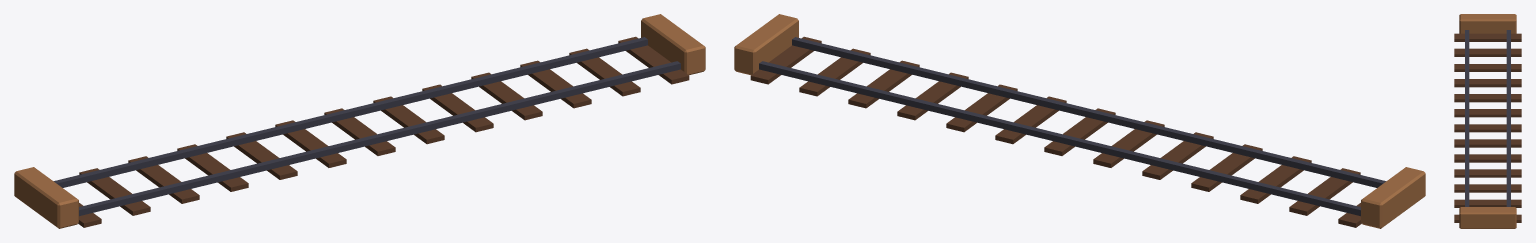
Rendered from Mine_Track.fbx.
The picture shows the model from 3 angles, left to right: view 1: azimuth 30°, elevation 25°; view 2: azimuth 150°, elevation 25°; view 3: azimuth 270°, elevation 25°; orthographic projection. The views are drawn at different scales.
Parts seen in each view (by area): view 1: iron.002, spool.002, timber.001; view 2: iron.002, spool.002, timber.001; view 3: spool.002, timber.001, iron.002.
Part boxes in pixels (x1,y1,x2,y2): iron.002: (53,37,680,216); spool.002: (78,36,689,227); timber.001: (14,14,705,228); iron.002: (759,37,1386,216); spool.002: (750,36,1361,227); timber.001: (734,14,1425,228); spool.002: (1454,33,1521,222); timber.001: (1459,14,1516,228); iron.002: (1465,30,1510,206).
Size of the model in its own units: 18.2 by 0.7 by 2.6.
